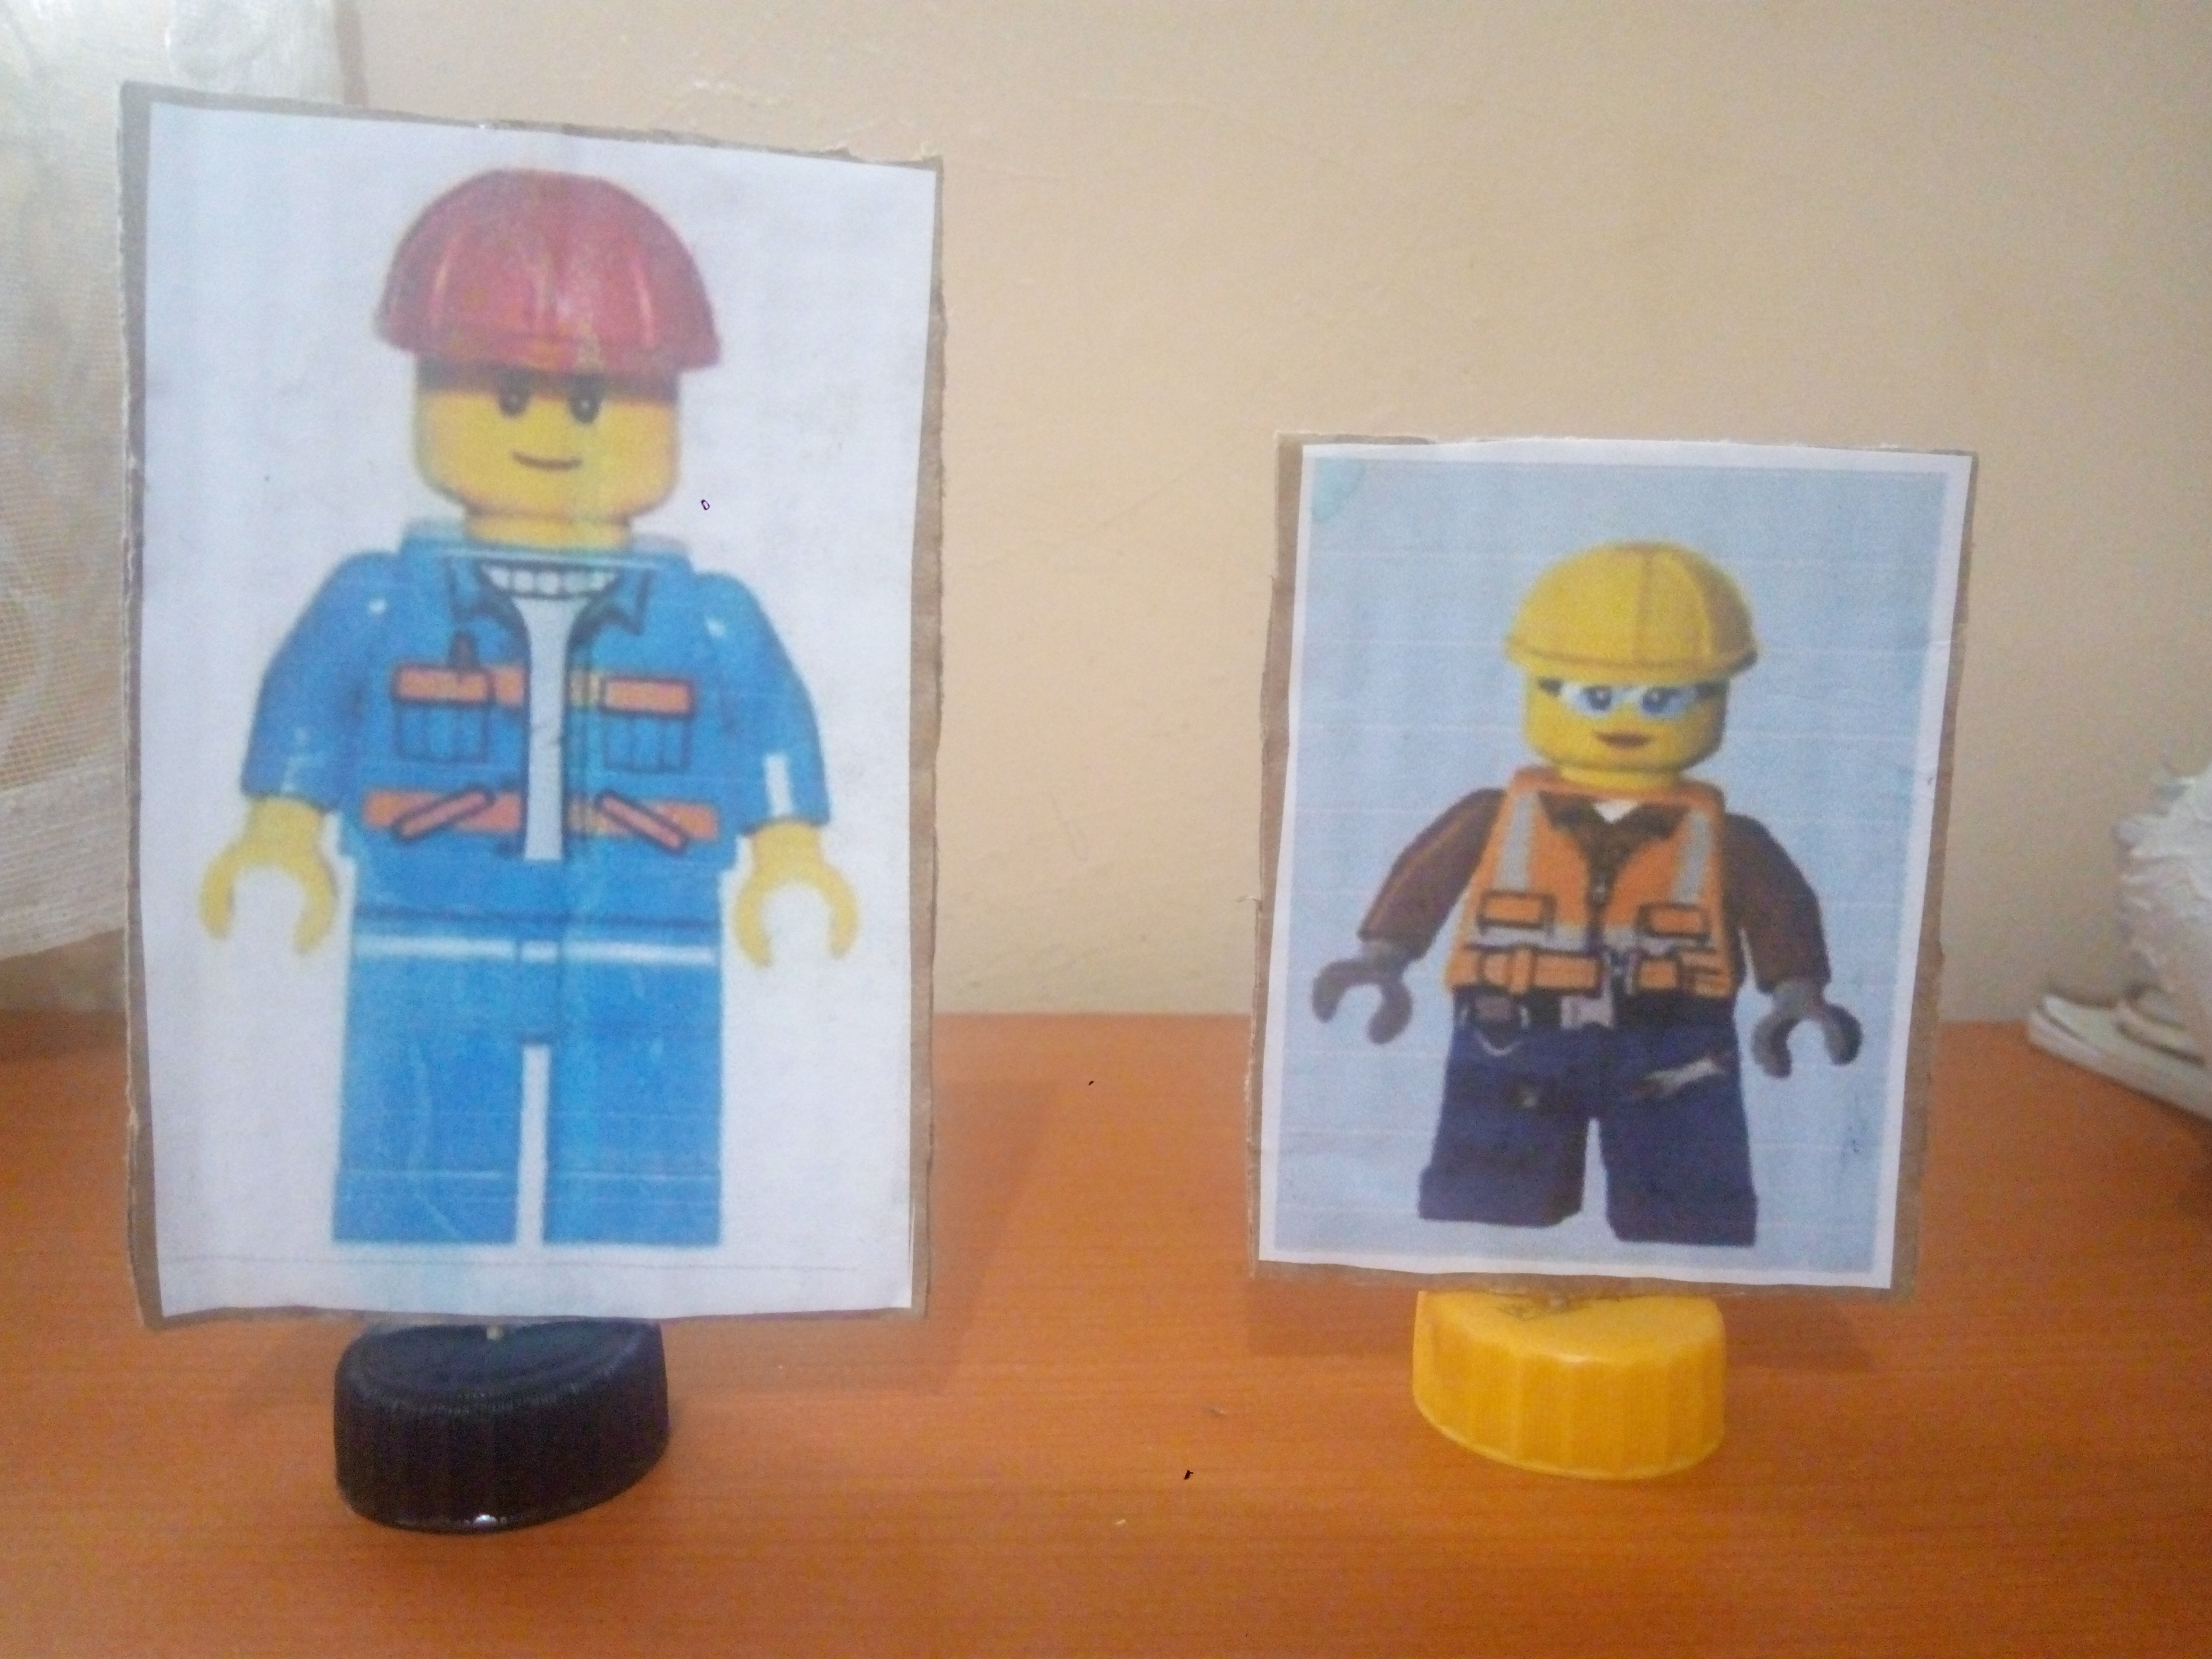pedestrian: (180, 131, 868, 1278), (1310, 490, 1875, 1271)
